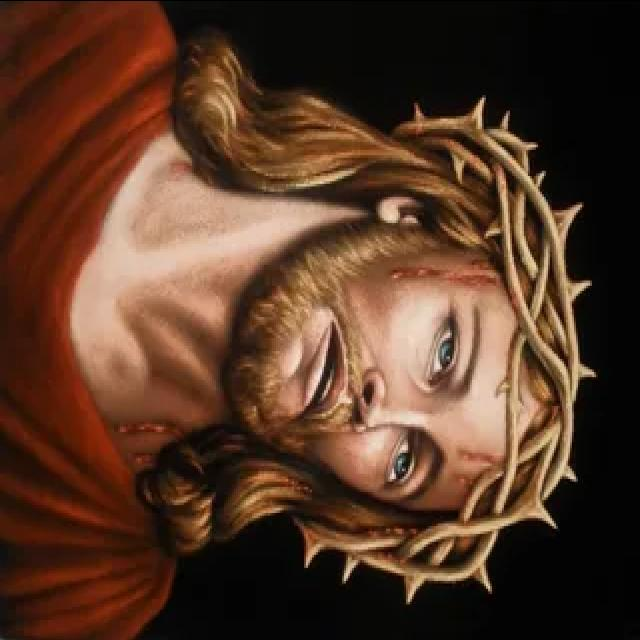crown: (419, 107, 598, 595)
